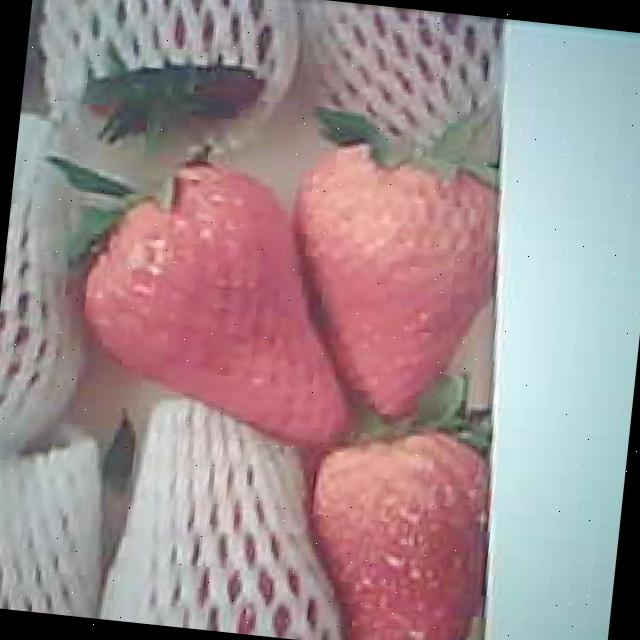strawberry: (75, 157, 371, 446), (281, 128, 513, 422), (303, 424, 497, 640)
